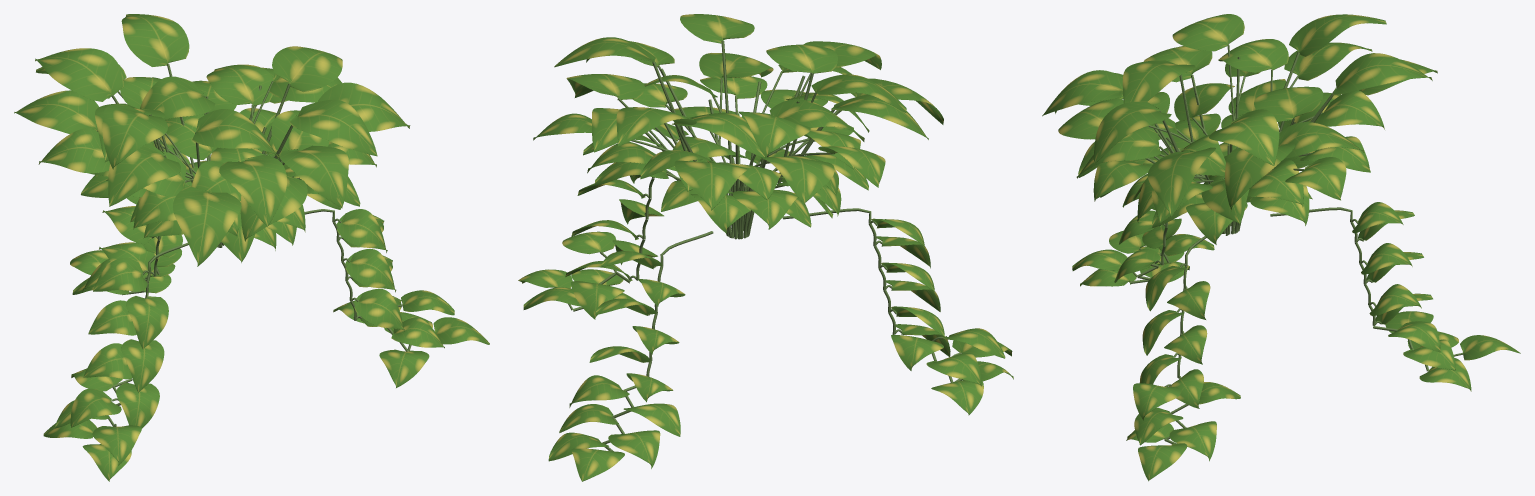
File: pothos-stage-7.glb
3 views of the same model, side by side, from view 1: azimuth 30°, elevation 25°; view 2: azimuth 150°, elevation 25°; view 3: azimuth 270°, elevation 25° (orthographic). The views are drawn at different scales.
Parts seen in each view (by area): view 1: Leaf_50, Leaf_65, Leaf_58, Leaf_61, Leaf_62, Leaf_48, Leaf_60, PlantBranches, Leaf_55, Leaf_52, Leaf_64, Leaf_63 (+40 smaller); view 2: PlantBranches, Leaf_49, Leaf_52, Leaf_65, Leaf_62, Leaf_63, Leaf_61, Leaf_54, Leaf_59, Leaf_57, Leaf_60, Leaf_48 (+48 smaller); view 3: PlantBranches, Leaf_64, Leaf_56, Leaf_62, Leaf_61, Leaf_63, Leaf_59, Leaf_58, Leaf_60, Leaf_65, Leaf_54, Leaf_51 (+44 smaller).
Boxes of the visible parts, x1,y1,x2,y2 form: Leaf_50: (172, 186, 241, 266); Leaf_65: (35, 48, 123, 101); Leaf_58: (219, 154, 286, 226); Leaf_61: (289, 99, 377, 156); Leaf_62: (121, 14, 189, 66); Leaf_48: (279, 145, 348, 208); Leaf_60: (102, 104, 167, 169); PlantBranches: (97, 63, 411, 426); Leaf_55: (108, 143, 180, 206); Leaf_52: (14, 90, 98, 133); Leaf_64: (272, 46, 342, 92); Leaf_63: (192, 109, 278, 158); PlantBranches: (568, 41, 962, 451); Leaf_49: (674, 160, 748, 210); Leaf_52: (760, 157, 834, 204); Leaf_65: (738, 111, 810, 158); Leaf_62: (616, 107, 696, 146); Leaf_63: (766, 44, 837, 73); Leaf_61: (680, 14, 754, 43); Leaf_54: (672, 113, 764, 157); Leaf_59: (566, 74, 644, 99); Leaf_57: (769, 99, 864, 141); Leaf_60: (811, 74, 906, 112); Leaf_48: (699, 53, 773, 80); PlantBranches: (1130, 44, 1463, 443); Leaf_64: (1209, 109, 1279, 165); Leaf_56: (1147, 147, 1215, 216); Leaf_62: (1333, 53, 1432, 95); Leaf_61: (1093, 101, 1171, 163); Leaf_63: (1122, 60, 1195, 103); Leaf_59: (1225, 143, 1295, 210); Leaf_58: (1042, 70, 1122, 116); Leaf_60: (1172, 14, 1244, 51); Leaf_65: (1289, 14, 1386, 56); Leaf_54: (1254, 86, 1323, 121); Leaf_51: (1278, 122, 1363, 158).
Size of the model in its own units: 4.25 by 2.93 by 4.01.
2 materials, 1 textured.
